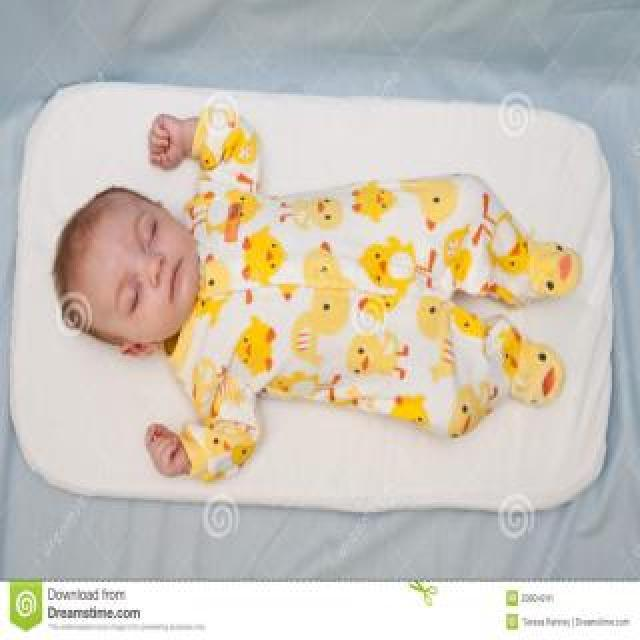baby: (51, 100, 589, 478)
